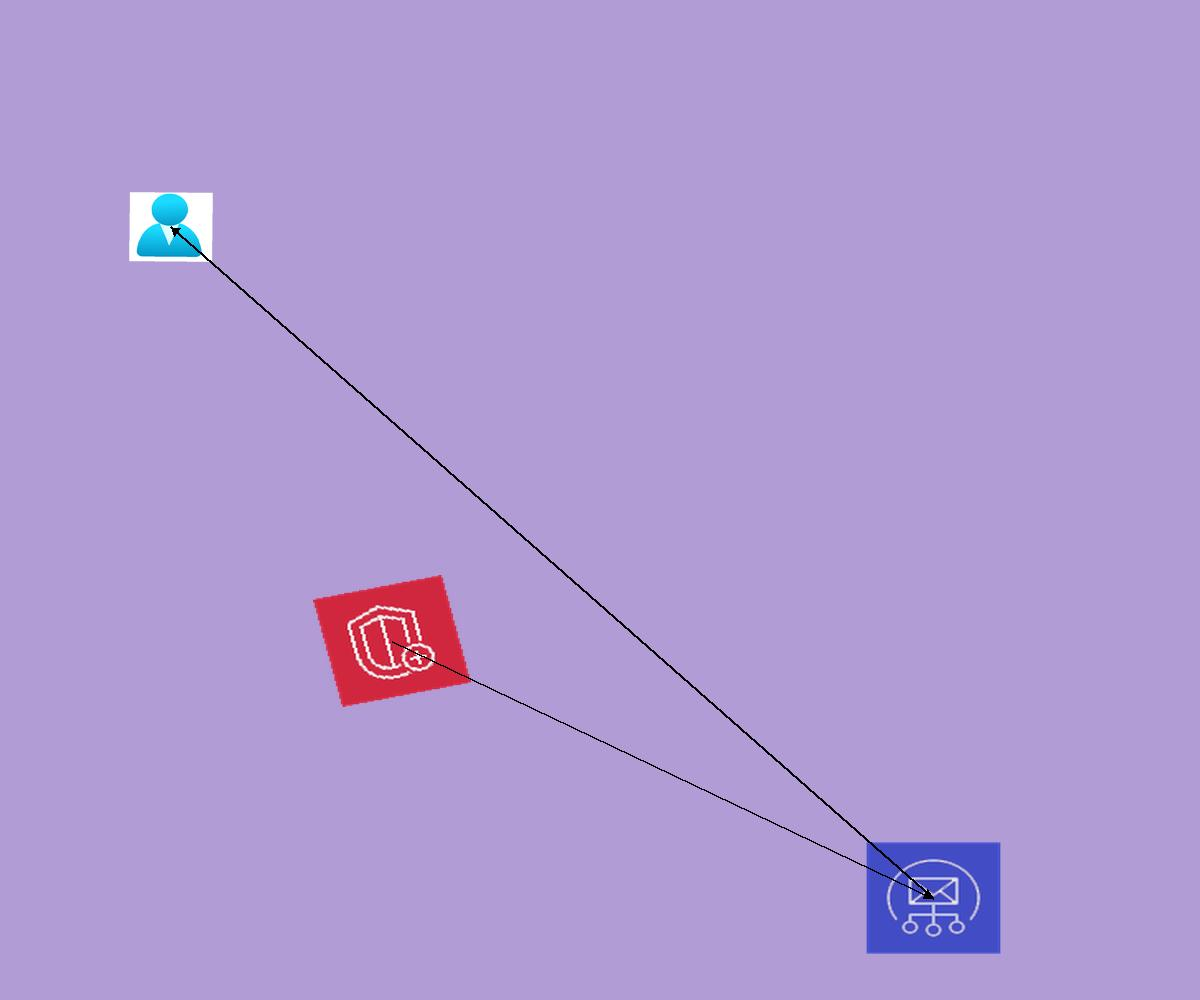AWS-Shield: (313, 575, 471, 707)
AWS-Simple-Email-Service: (865, 841, 1002, 955)
Azure_users: (129, 192, 213, 262)
